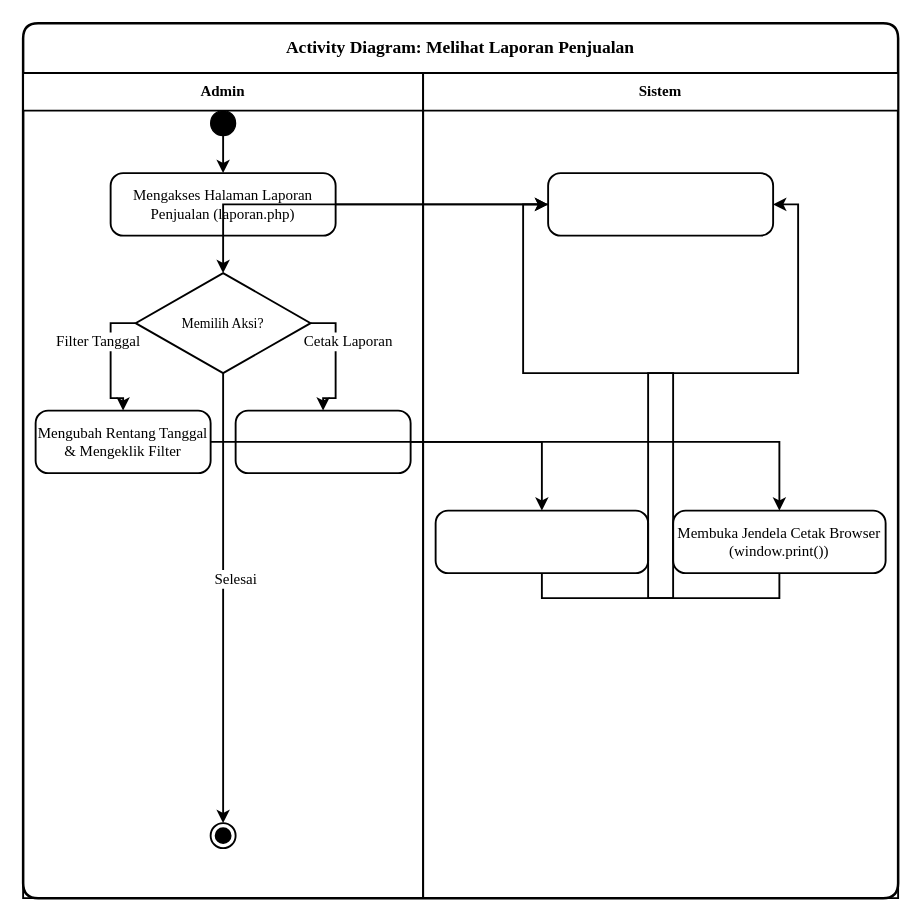
This 920x920 diagram has some shape labels left out. Each missing label, with the centre of its shape:
"Menampilkan Laporan Penjualan Default (Awal Bulan s/d Hari Ini)" goes at (660,204).
"Mengambil Data & Menampilkan Laporan Terfilter" goes at (541,541).
"Mengeklik Tombol Cetak Laporan" goes at (322,441).
